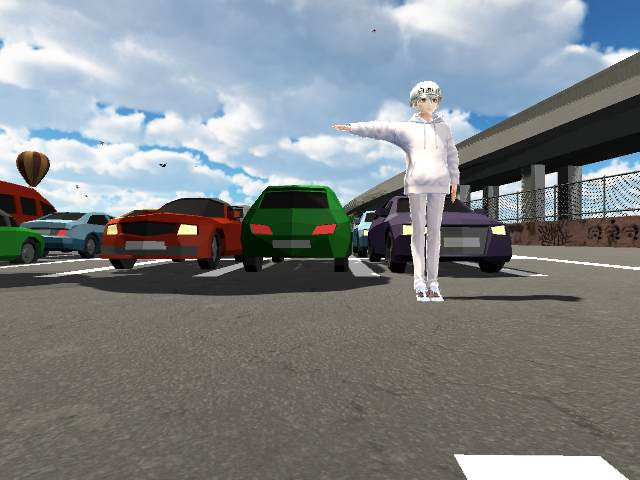singleP_left: (334, 80, 464, 305)
